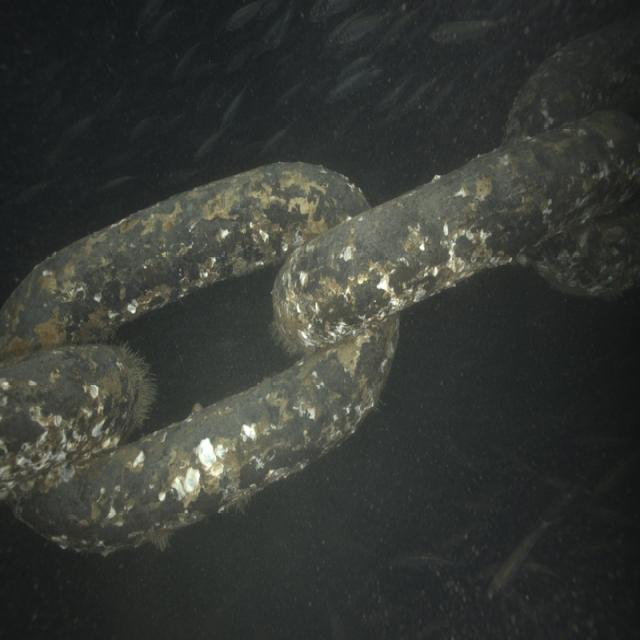ChainLink: (12, 320, 398, 553), (272, 113, 640, 347), (0, 162, 368, 363), (0, 345, 154, 498), (504, 15, 640, 144), (525, 198, 640, 296)
